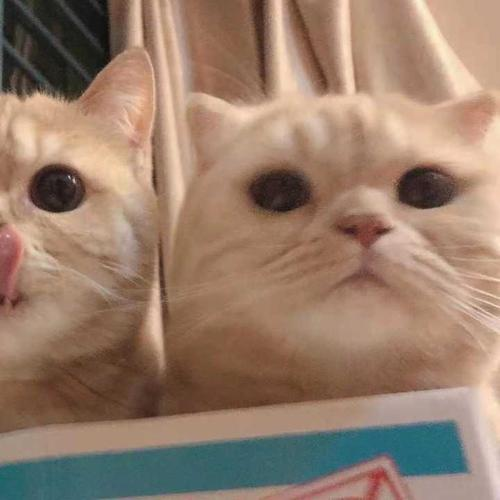cat: (110, 346, 115, 351)
